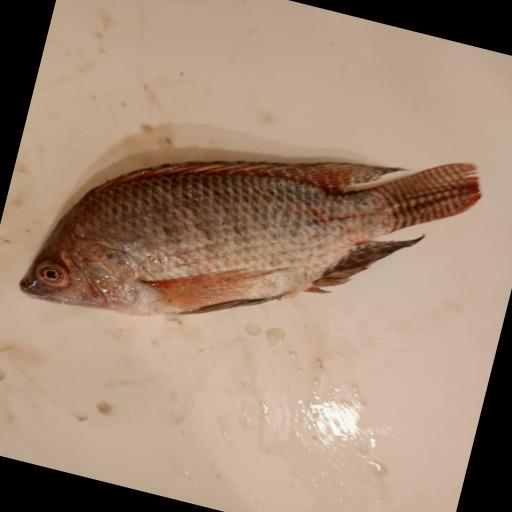Tilapia: (16, 64, 490, 398)
